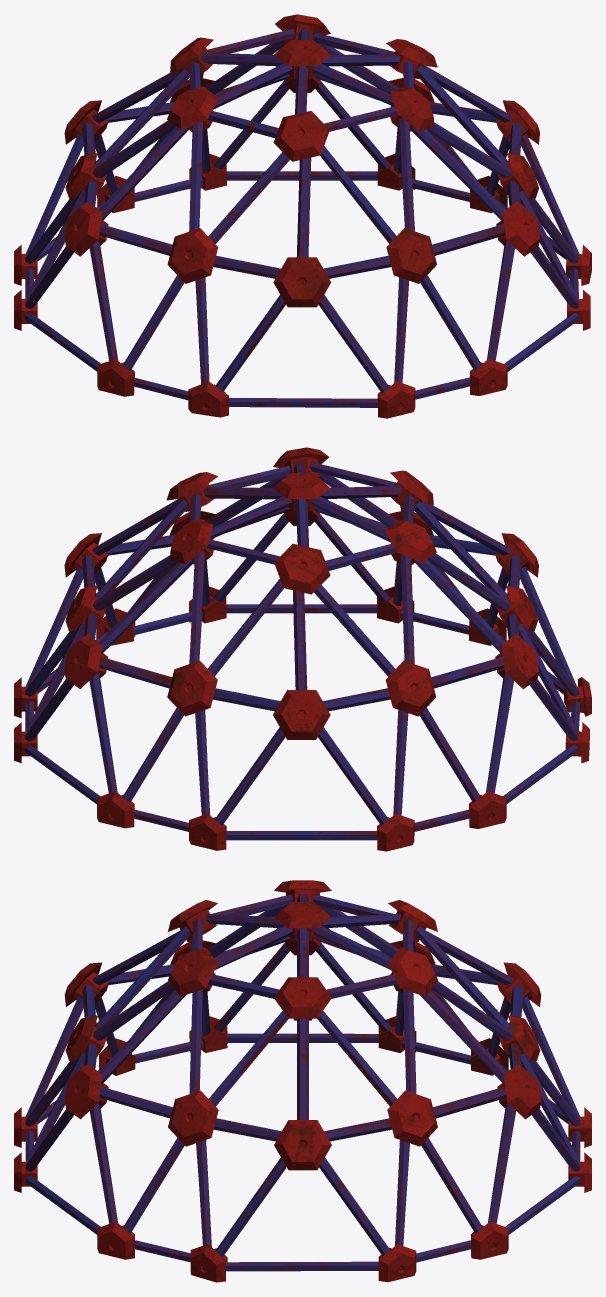
Rendered from Jungle_Gym.fbx.
3 renders of one model, top to bottom at view 1: azimuth 30°, elevation 25°; view 2: azimuth 150°, elevation 25°; view 3: azimuth 270°, elevation 25°, orthographic.
Visible parts, largest first — view 1: Jungle Gym; view 2: Jungle Gym; view 3: Jungle Gym.
Part boxes in pixels (left/top/right/bottom): Jungle Gym: left=14, top=14, right=591, bottom=418; Jungle Gym: left=14, top=447, right=591, bottom=851; Jungle Gym: left=14, top=880, right=591, bottom=1282.
Bounding box in the file's own units: 184 × 187 × 90.08.
